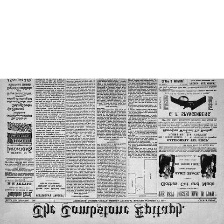news_paper: (0, 78, 224, 224)
